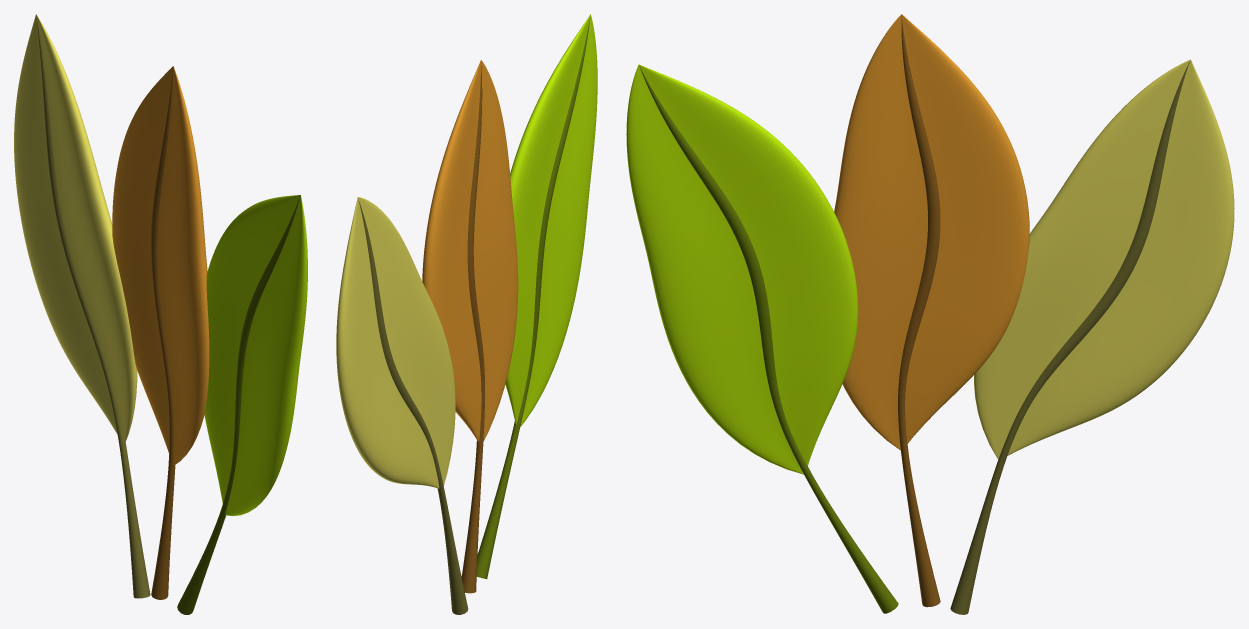
The model's file is daun_fix 1.fbx.
The picture shows the model from 3 angles, left to right: view 1: azimuth 30°, elevation 25°; view 2: azimuth 150°, elevation 25°; view 3: azimuth 270°, elevation 25°; orthographic projection. The views are drawn at different scales.
Visible parts, largest first — view 1: NurbsPath.003, NurbsPath, NurbsPath.004, NurbsPath.002, NurbsPath.001, NurbsPath.005; view 2: NurbsPath.003, NurbsPath, NurbsPath.004, NurbsPath.005, NurbsPath.001, NurbsPath.002; view 3: NurbsPath.004, NurbsPath.003, NurbsPath, NurbsPath.001, NurbsPath.002, NurbsPath.005.
Boxes of the visible parts, bbox=[...] form: NurbsPath.003: bbox=[14, 14, 137, 444]; NurbsPath: bbox=[112, 66, 209, 465]; NurbsPath.004: bbox=[204, 195, 307, 515]; NurbsPath.002: bbox=[36, 16, 150, 598]; NurbsPath.001: bbox=[151, 67, 175, 599]; NurbsPath.005: bbox=[177, 197, 299, 614]; NurbsPath.003: bbox=[336, 197, 455, 488]; NurbsPath: bbox=[422, 60, 518, 442]; NurbsPath.004: bbox=[505, 14, 597, 427]; NurbsPath.005: bbox=[476, 15, 590, 578]; NurbsPath.001: bbox=[461, 61, 484, 593]; NurbsPath.002: bbox=[358, 199, 468, 614]; NurbsPath.004: bbox=[626, 64, 858, 474]; NurbsPath.003: bbox=[974, 59, 1234, 459]; NurbsPath: bbox=[834, 14, 1029, 450]; NurbsPath.001: bbox=[898, 15, 940, 607]; NurbsPath.002: bbox=[950, 62, 1189, 614]; NurbsPath.005: bbox=[639, 65, 898, 613].
Size of the model in its own units: 24.6 by 486 by 446.
